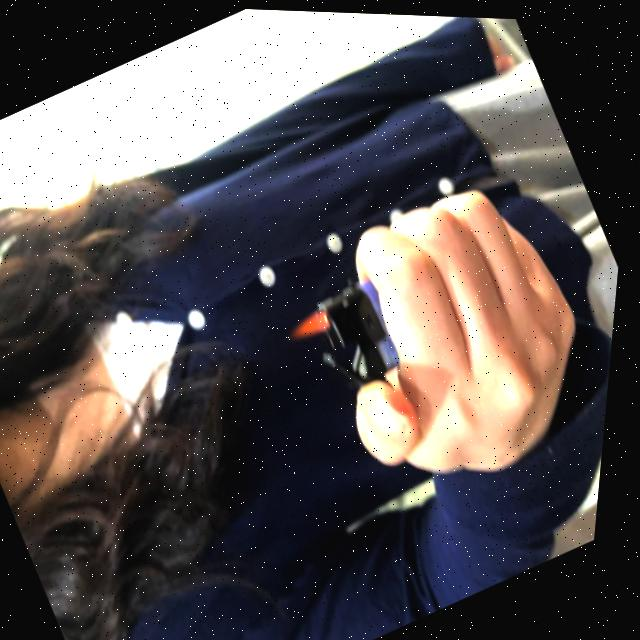Fire: (286, 300, 339, 348)
